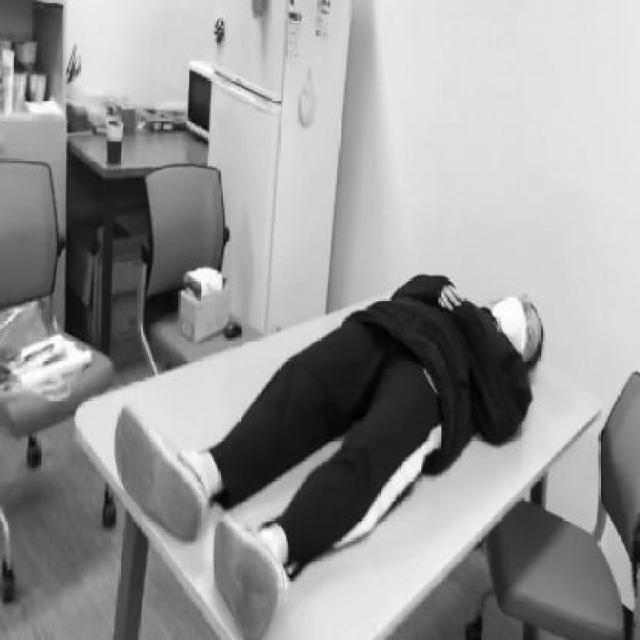person: (109, 260, 546, 638)
